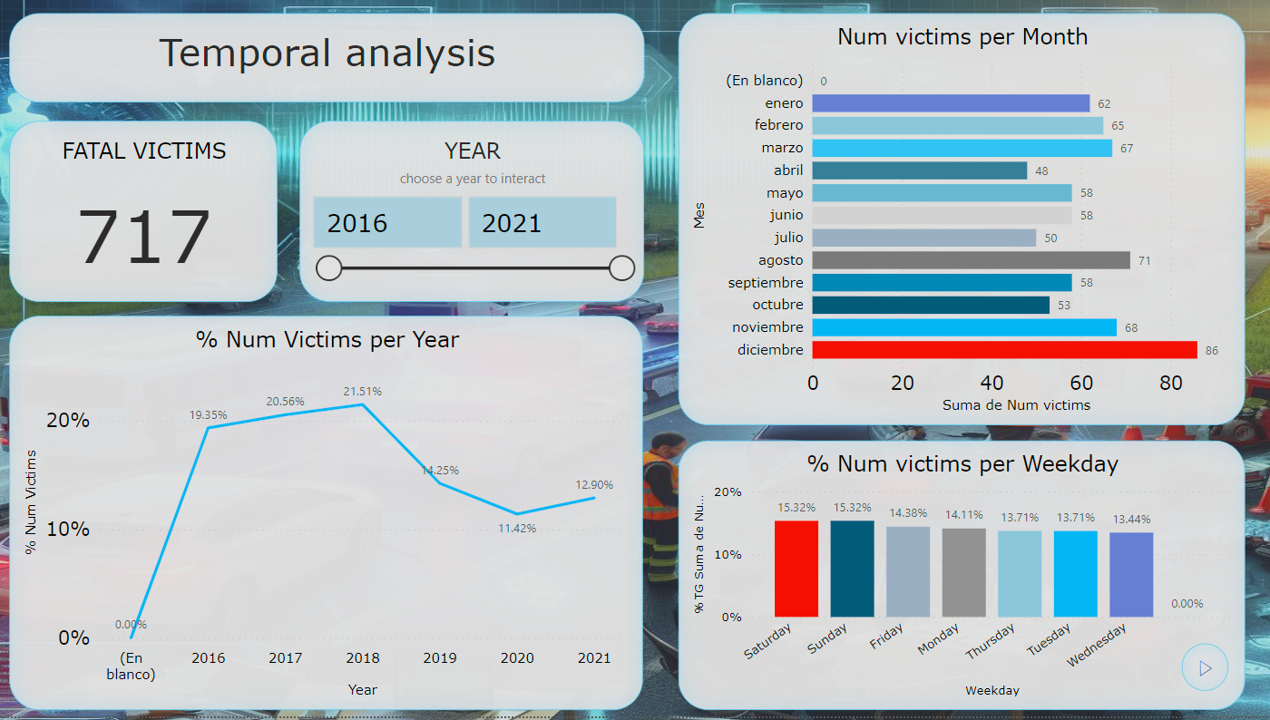

Layout of this report page (visuals, bound fields, positions):
{"tool":"powerbi","page":{"name":"TEMPORAL","canvas":[1280,720],"ordinal":2},"visuals":[{"type":"lineChart","title":"Num Victims per Year","fields":{"Category":["df_road_accidents.Date.Variación.Jerarquía de fechas.Año"],"Y":["Sum(df_road_accidents.Num victims)"]},"box":[10.1,321.1,629.9,392.1],"z":0},{"type":"columnChart","title":"Num victims per Weekday","fields":{"Category":["df_road_accidents.Weekday"],"Y":["Sum(df_road_accidents.Num victims)"]},"box":[674.8,445,563.5,267.7],"z":1000},{"type":"clusteredBarChart","title":"Num victims per Month","fields":{"Category":["df_road_accidents.Date.Variación.Jerarquía de fechas.Mes"],"Y":["Sum(df_road_accidents.Num victims)"]},"box":[674.8,20.8,563.5,409.5],"z":2000},{"type":"card","title":"FATAL VICTIMS","fields":{"Values":["df_road_accidents.M TotalHomic"]},"box":[9.8,127.1,266.5,179.7],"z":3000},{"type":"slicer","title":"YEAR","fields":{"Values":["df_road_accidents.Date.Variación.Jerarquía de fechas.Año"]},"box":[298.3,127.1,342.3,179.7],"z":4000},{"type":"image","box":[1175.2,646.8,45,47.3],"z":5000},{"type":"textbox","box":[10.1,20.3,631,89],"z":6000}]}

Visuals, with their boxes in screenshot pixels (x1, y1, x2, y2), scaled from the page's 1280x720 canvas onto the 1270x720 screenshot:
"Num Victims per Year" lineChart: rect(10, 321, 635, 713)
"Num victims per Weekday" columnChart: rect(670, 445, 1229, 713)
"Num victims per Month" clusteredBarChart: rect(670, 21, 1229, 430)
"FATAL VICTIMS" card: rect(10, 127, 274, 307)
"YEAR" slicer: rect(296, 127, 636, 307)
image: rect(1166, 647, 1211, 694)
textbox: rect(10, 20, 636, 109)
